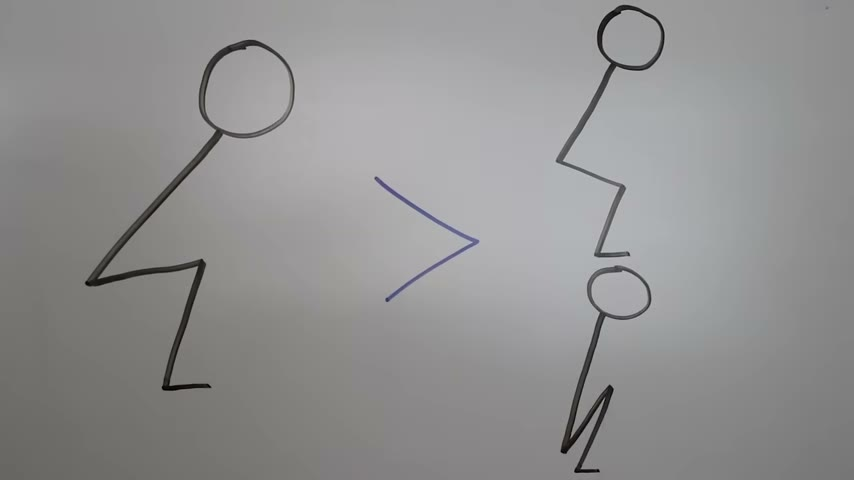barbell_plate_side: (85, 31, 307, 413), (155, 35, 306, 424), (367, 163, 487, 426)
